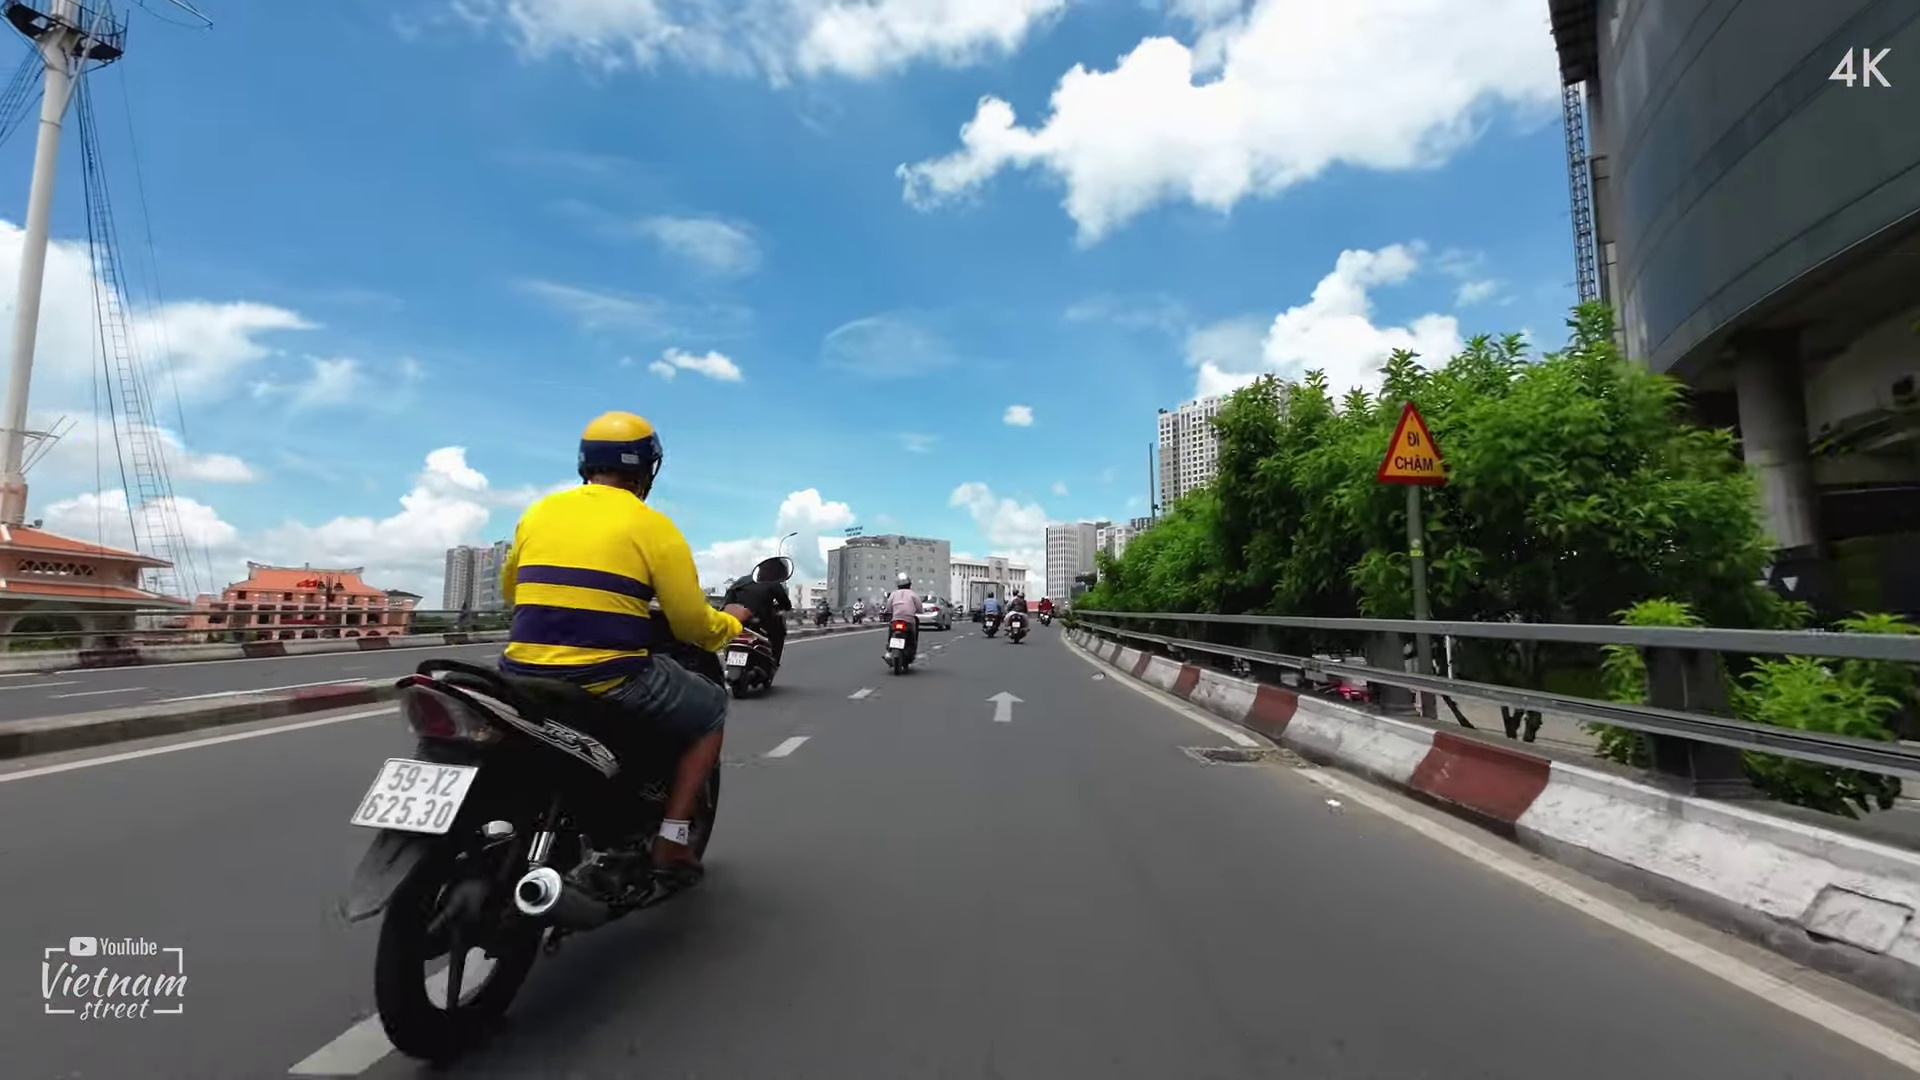di_cham: (1373, 394, 1462, 489)
